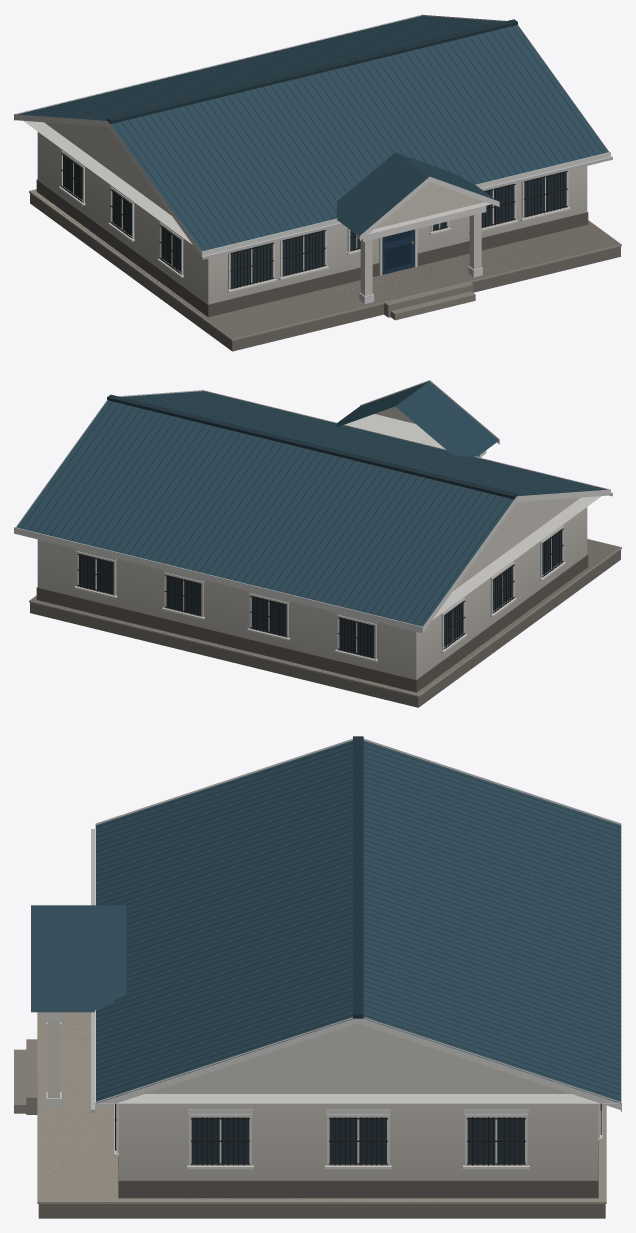
File: ns_house.glb
3 views of the same model, one above another, from view 1: azimuth 30°, elevation 25°; view 2: azimuth 150°, elevation 25°; view 3: azimuth 270°, elevation 25° (orthographic). The views are drawn at different scales.
Visible parts, largest first — view 1: ns_house; view 2: ns_house; view 3: ns_house.
Boxes of the visible parts, <box> form: ns_house: <box>14,14,621,351</box>; ns_house: <box>14,380,621,707</box>; ns_house: <box>14,736,621,1218</box>.
Bounding box in the file's own units: 17.32 × 6.06 × 15.87.
